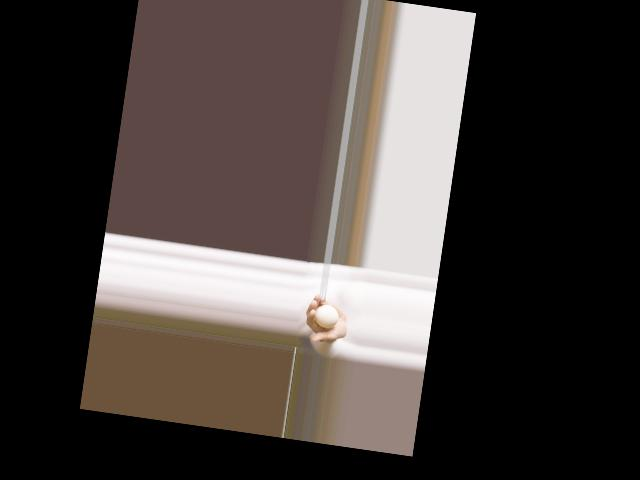egg: (312, 303, 339, 329)
